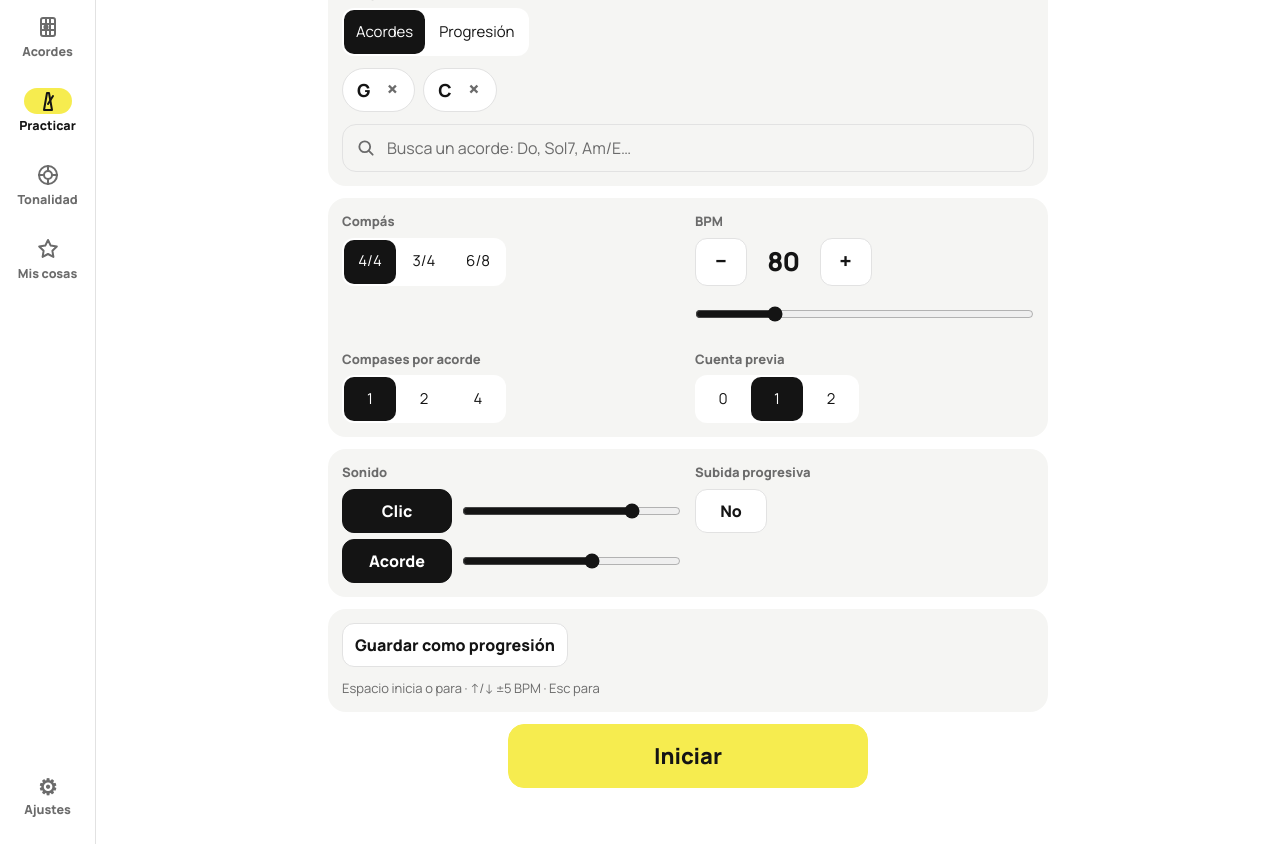
Test: pantalla Practicar › ↑/↓ cambian el BPM de 5 en 5 y Esc para
(page scrolled)
Click the button "Iniciar" at (688, 756), box [508, 724, 868, 788]
(page scrolled)
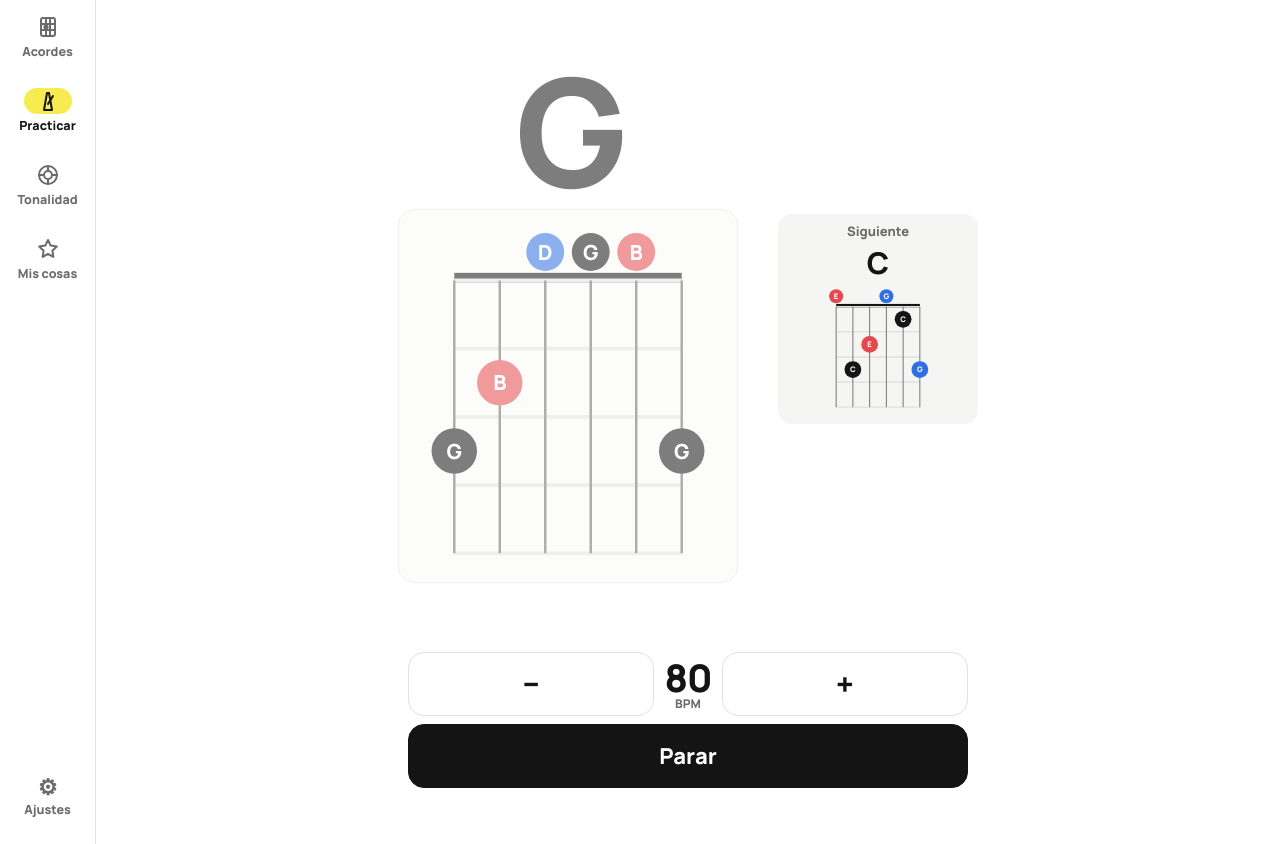
Press Arrowup
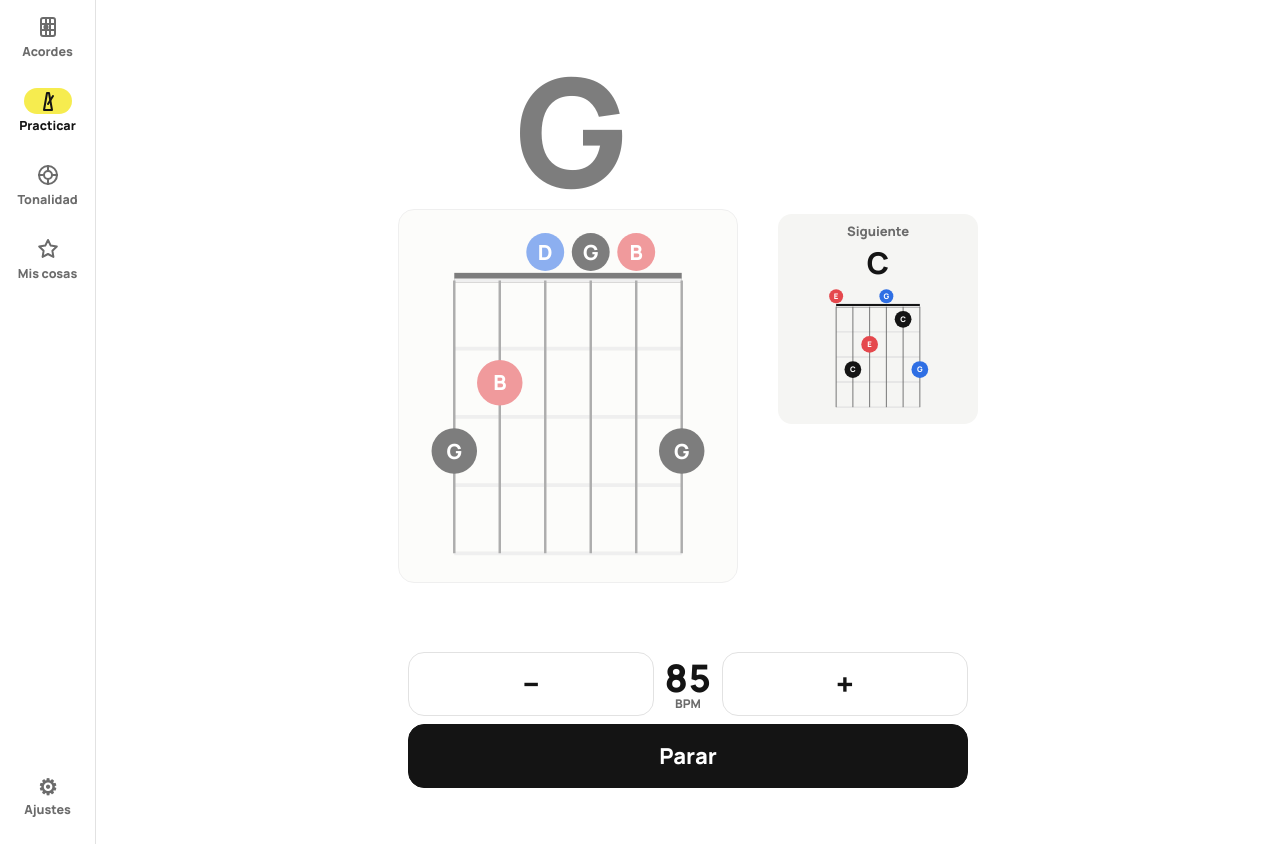
Press Arrowdown Arrowdown
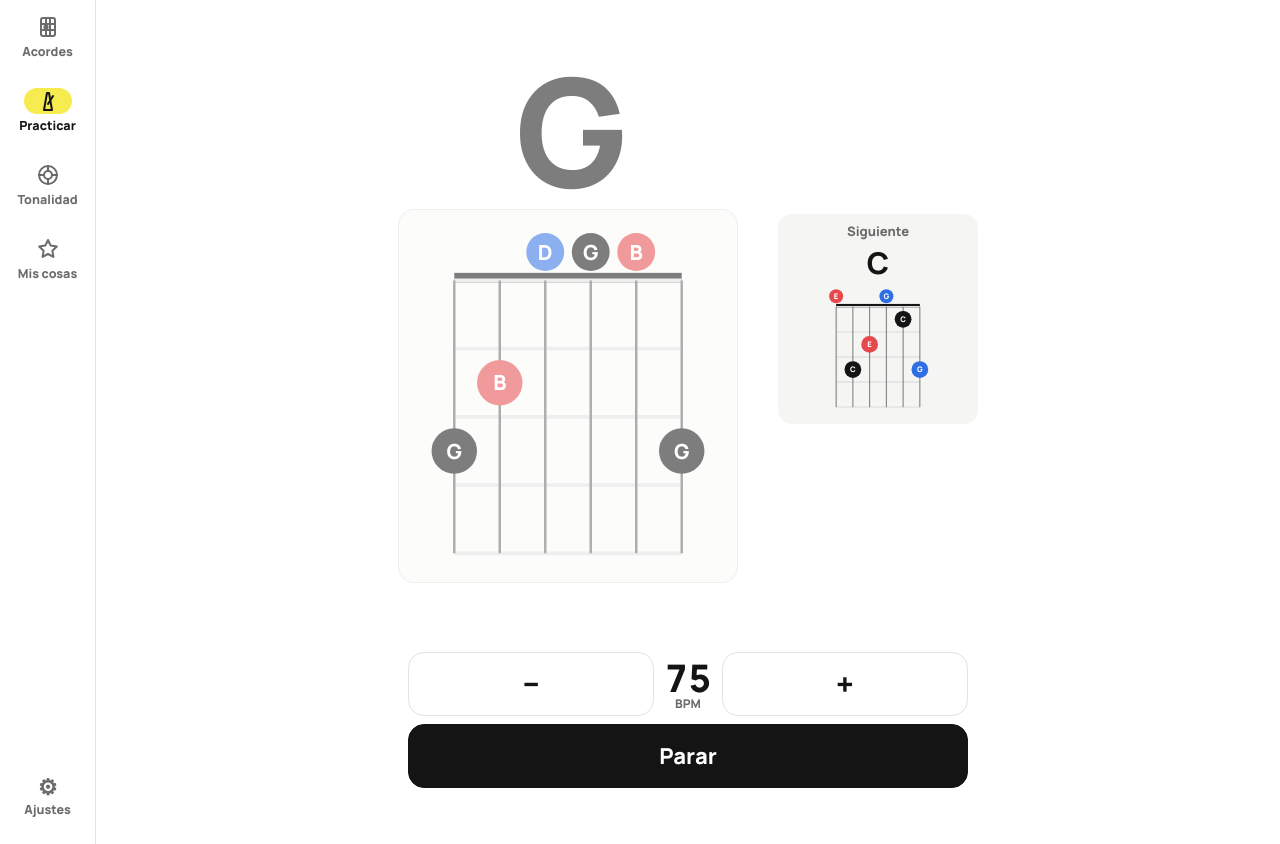
Press Escape
(page scrolled)
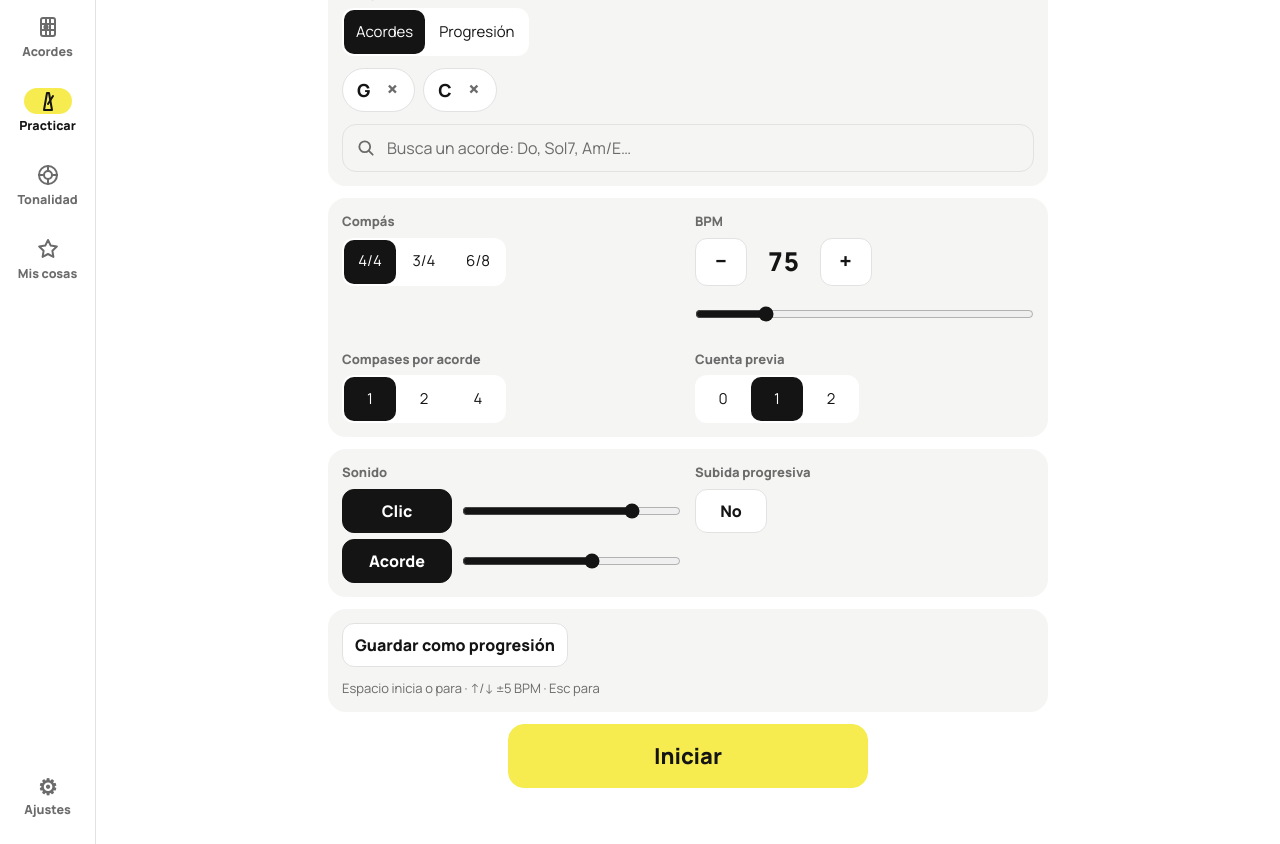
Expected: the button "Iniciar" is shown, [508, 724, 868, 788]
